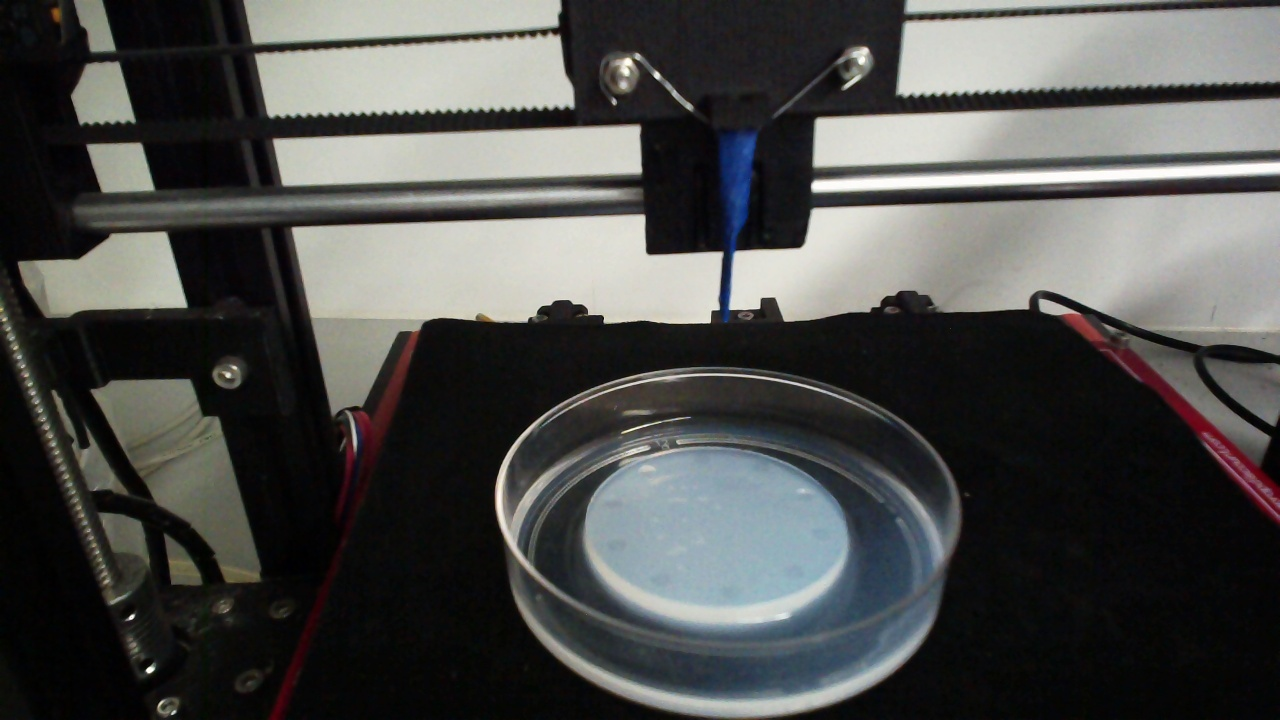groove: (717, 584, 742, 603), (783, 564, 806, 581), (649, 572, 671, 588), (810, 527, 832, 542), (795, 488, 816, 503), (607, 538, 628, 553), (692, 452, 712, 467), (602, 496, 622, 510), (638, 464, 656, 478), (752, 461, 769, 474)
needle: (717, 134, 755, 324)
